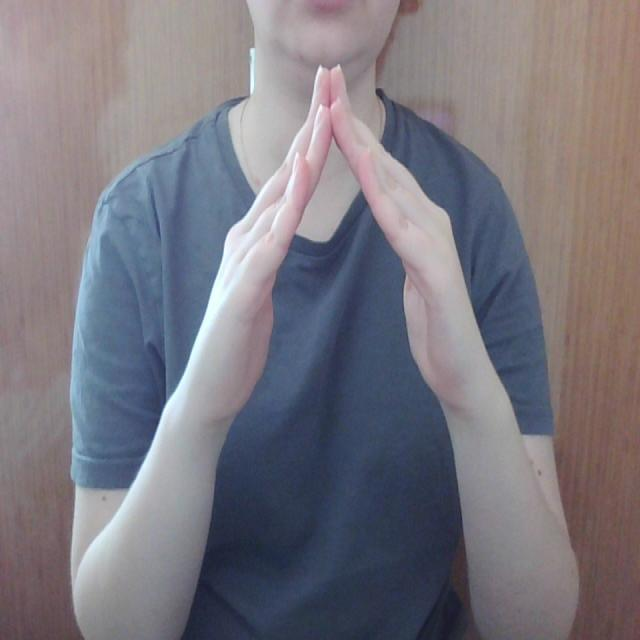Ev: (173, 56, 500, 432)
